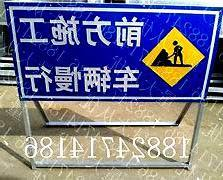sign: (7, 5, 222, 101)
